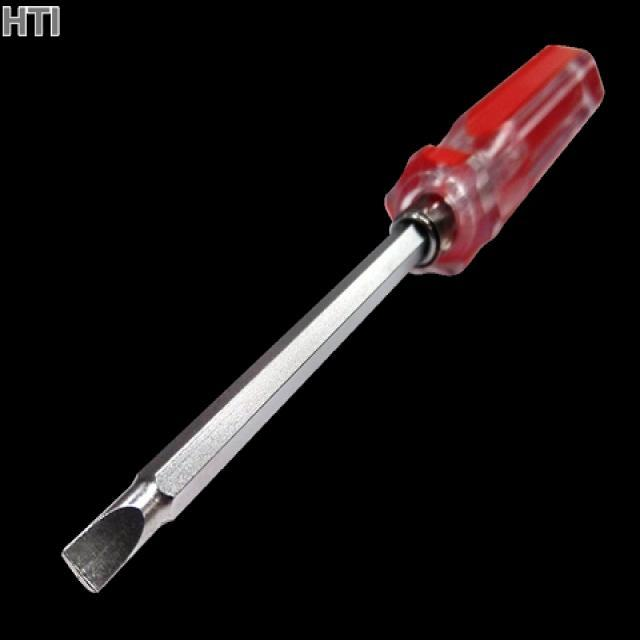screwdriver: (53, 38, 610, 604)
